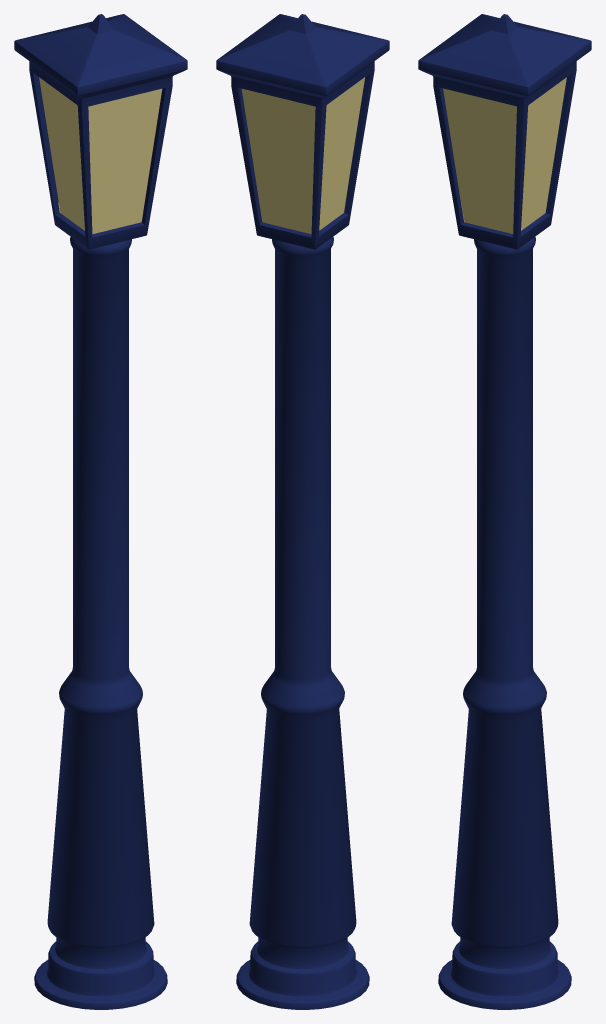
The model's file is Farola.fbx.
3 views of the same model, side by side, from view 1: azimuth 30°, elevation 25°; view 2: azimuth 150°, elevation 25°; view 3: azimuth 330°, elevation 25° (orthographic).
Parts seen in each view (by area): view 1: Farola; view 2: Farola; view 3: Farola.
Boxes of the visible parts, x1,y1,x2,y2 form: Farola: (14,14,187,1009); Farola: (216,14,389,1009); Farola: (418,14,591,1009).
Bounding box in the file's own units: 200 × 1598 × 200.
